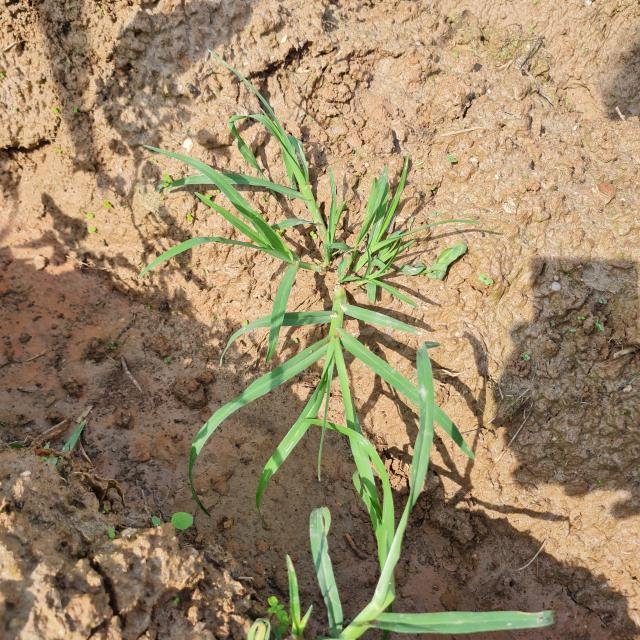weed: (122, 81, 574, 639)
